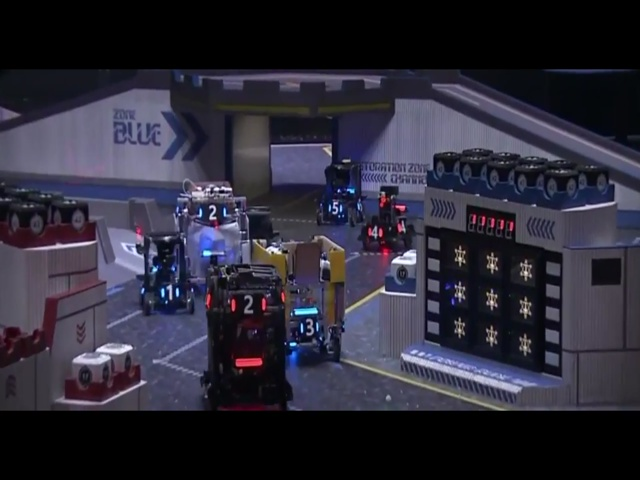bluePlate: (198, 203, 227, 222), (300, 315, 320, 339), (159, 282, 180, 304), (327, 200, 345, 216)
redPlate: (230, 290, 267, 316), (365, 220, 385, 242), (396, 218, 408, 237)
